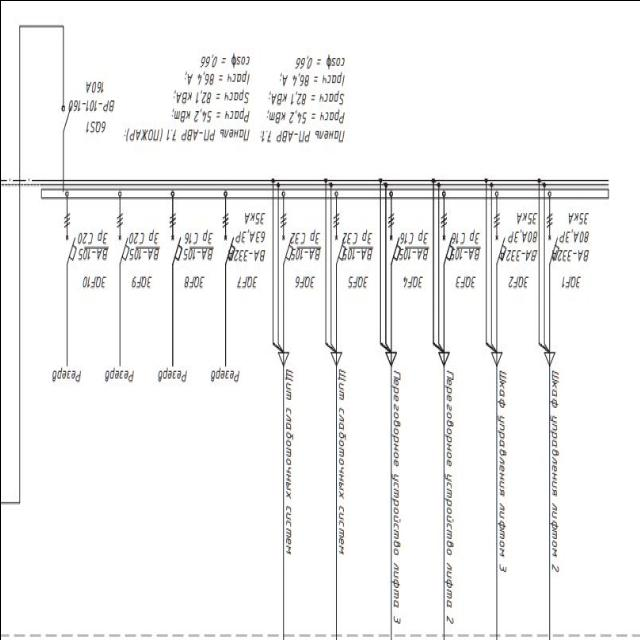-: (496, 206, 538, 264), (549, 206, 591, 264), (67, 75, 116, 116), (229, 210, 265, 264), (180, 225, 217, 261), (76, 228, 112, 264), (125, 226, 161, 262), (340, 228, 376, 264), (286, 228, 322, 264), (394, 225, 430, 261), (446, 227, 482, 263), (258, 125, 311, 146)
QF: (62, 232, 77, 266), (386, 230, 401, 264), (493, 231, 507, 265), (545, 232, 559, 266), (116, 231, 130, 265), (438, 232, 452, 266), (331, 232, 345, 266), (278, 233, 292, 267), (222, 232, 236, 266), (168, 232, 182, 266)
QS: (57, 100, 71, 132)
